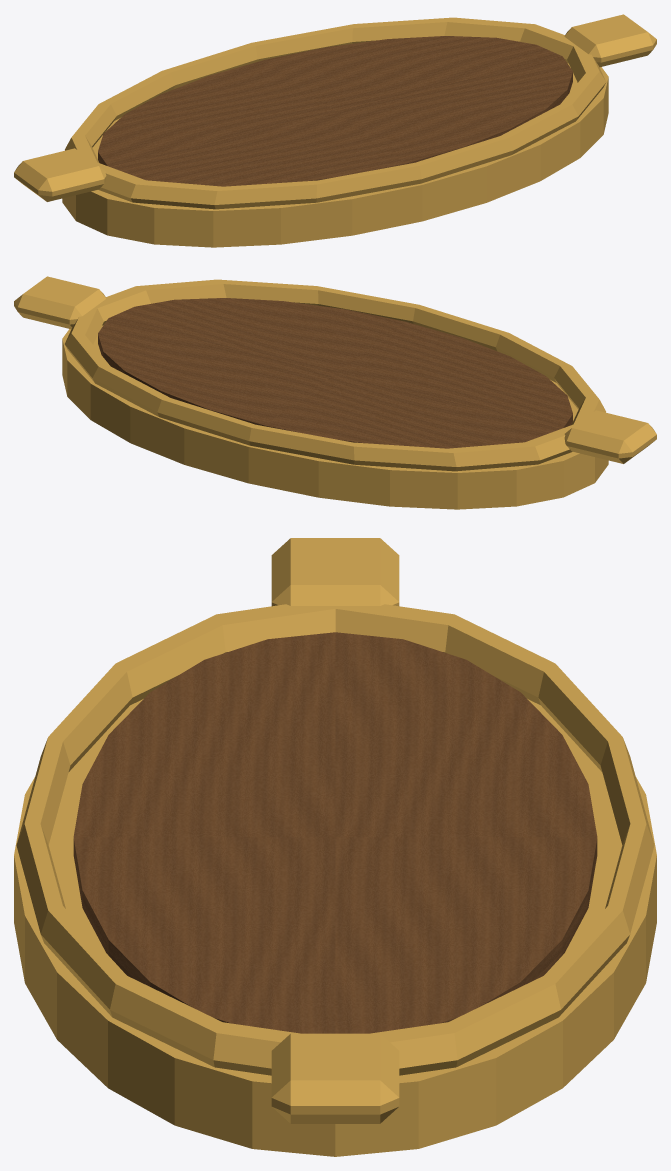
Rendered from serving-tray.glb.
3 renders of one model, top to bottom at view 1: azimuth 30°, elevation 25°; view 2: azimuth 150°, elevation 25°; view 3: azimuth 270°, elevation 25°, orthographic. The views are drawn at different scales.
Visible parts, largest first — view 1: Oval walnut tray inset, Raised oval tray rim, Oval brass tray, Tray handle, Tray handle.001; view 2: Oval walnut tray inset, Raised oval tray rim, Oval brass tray, Tray handle, Tray handle.001; view 3: Oval walnut tray inset, Raised oval tray rim, Oval brass tray, Tray handle.001, Tray handle.
Part boxes in pixels (box(x1,y1,x2,y2)): Oval walnut tray inset: box(98, 36, 572, 186); Raised oval tray rim: box(65, 17, 606, 209); Oval brass tray: box(62, 63, 608, 247); Tray handle: box(14, 148, 106, 201); Tray handle.001: box(564, 14, 656, 67); Oval walnut tray inset: box(98, 298, 572, 448); Raised oval tray rim: box(64, 279, 605, 471); Oval brass tray: box(62, 325, 608, 509); Tray handle: box(564, 410, 656, 463); Tray handle.001: box(14, 276, 106, 329); Oval walnut tray inset: box(73, 632, 597, 1033); Raised oval tray rim: box(16, 604, 654, 1075); Oval brass tray: box(14, 699, 656, 1156); Tray handle.001: box(271, 1033, 399, 1123); Tray handle: box(271, 538, 399, 606).
Bounding box in the file's own units: 1.24 × 0.1175 × 0.6032.
Materials: 2 (1 with a texture image).
